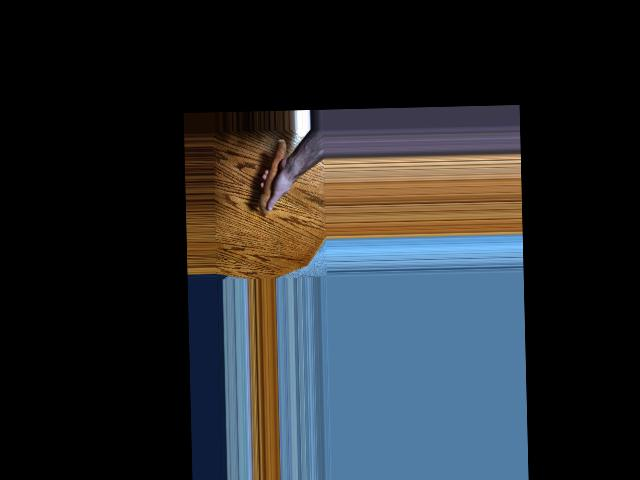sweet_potato: (254, 138, 290, 214)
